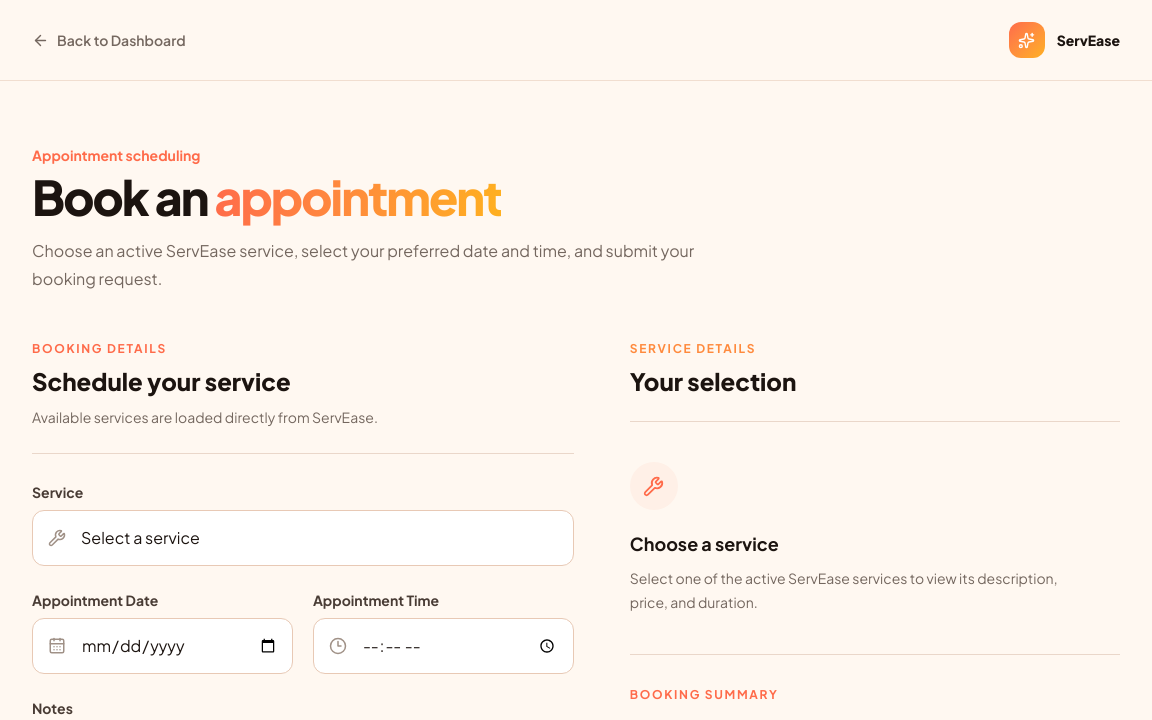
Booking confirmation workflow › keeps the booking successful when notification success is true
Select "Premium Service — ₱1,000.00" in the dropdown labelled "Service" at (303, 538), box [32,510,574,566]
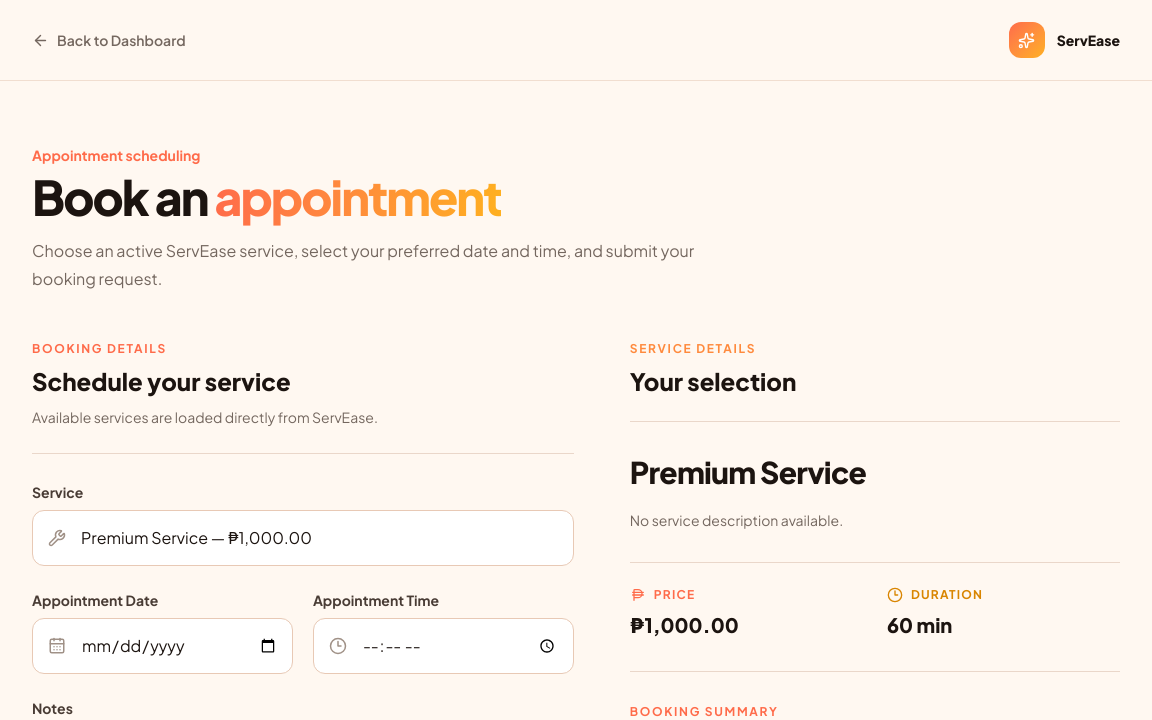
Type "2099-09-20" into the date field labelled "Appointment Date" at (162, 646), box [32,618,293,674]
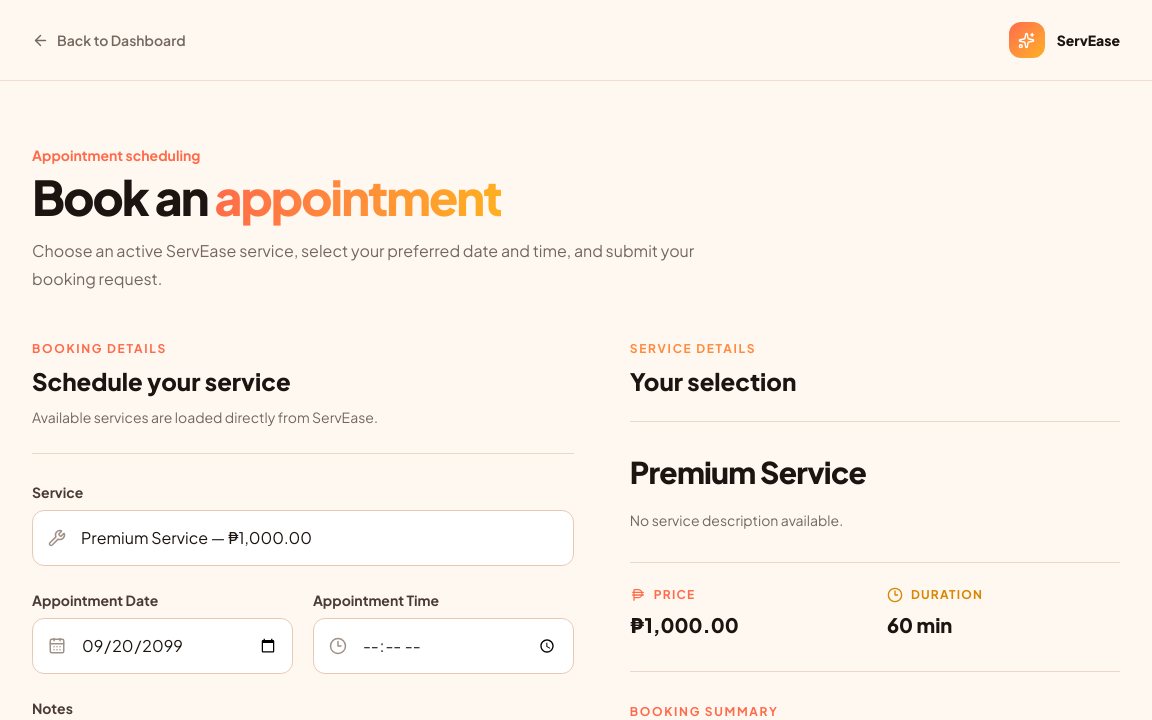
Type "10:00" into the time field labelled "Appointment Time" at (443, 646), box [313,618,574,674]
(page scrolled)
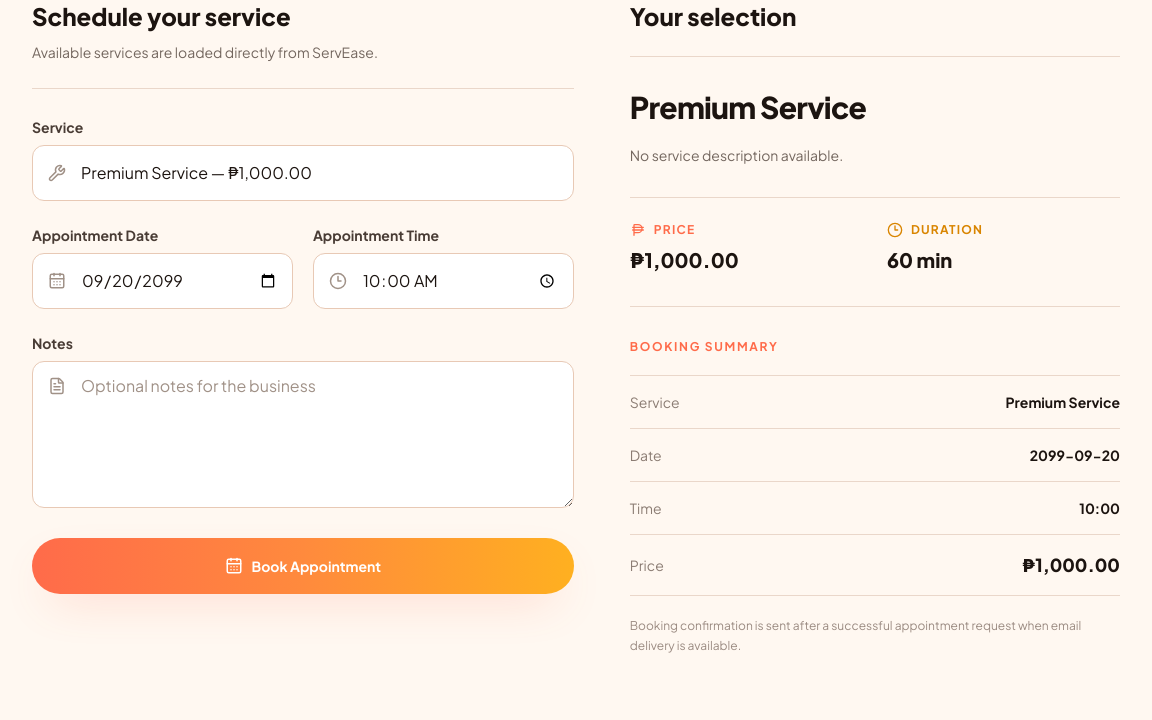
Click the button "Book Appointment" at (303, 566), box [32,538,574,594]
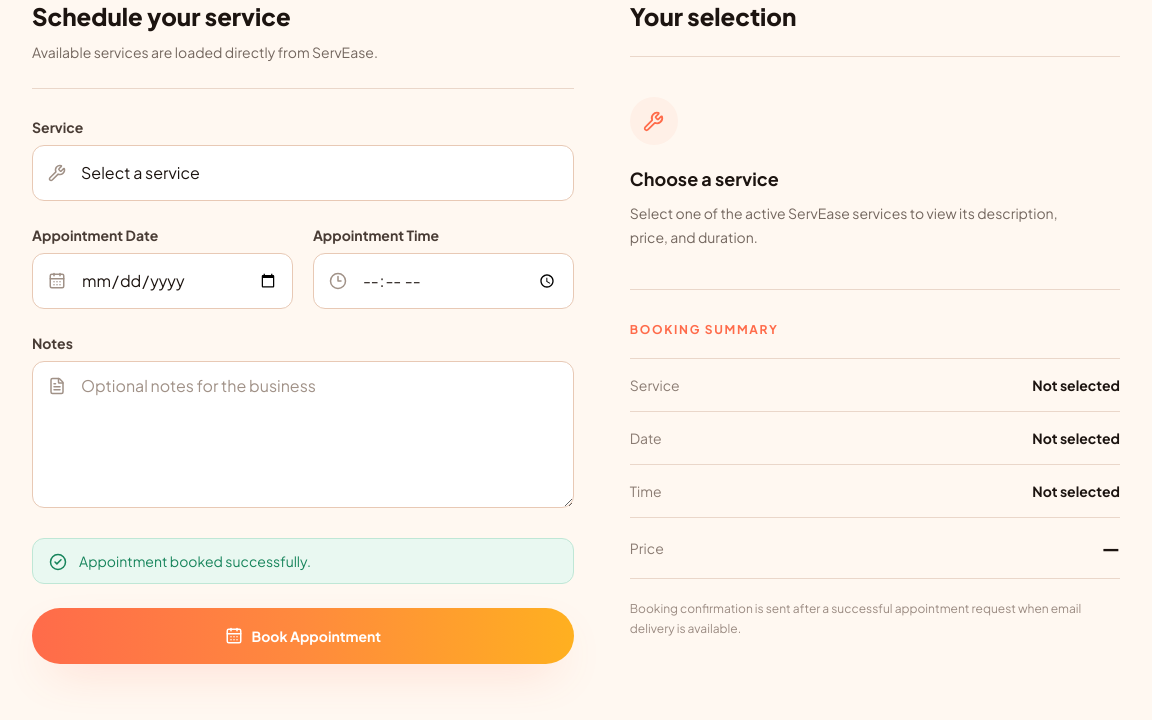
expect the button "Book Appointment" is enabled: met, box [32,608,574,664]
expect the text "Appointment booked successfully." is shown: met, box [79,551,311,571]
